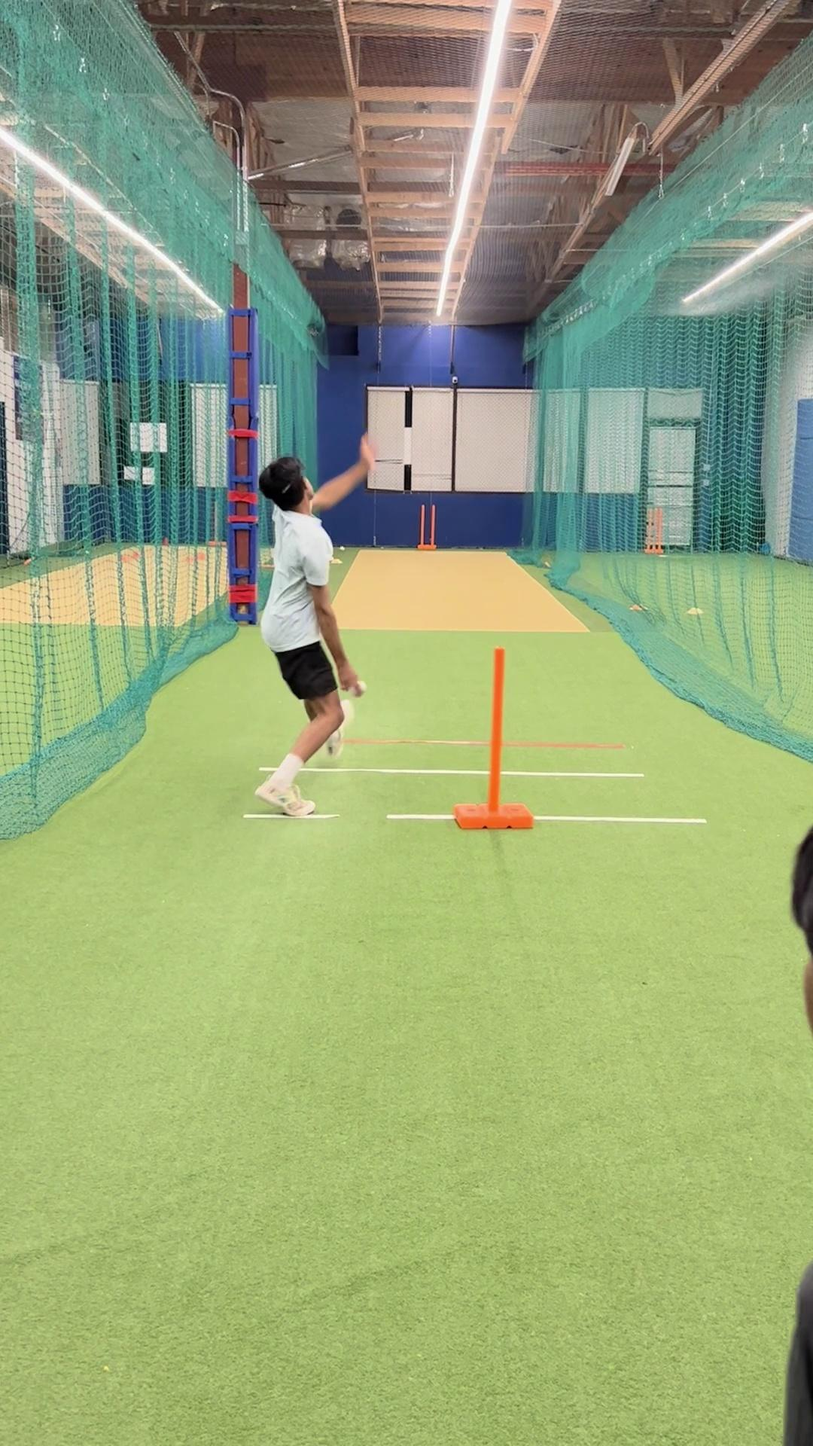ball: (343, 675, 371, 701)
